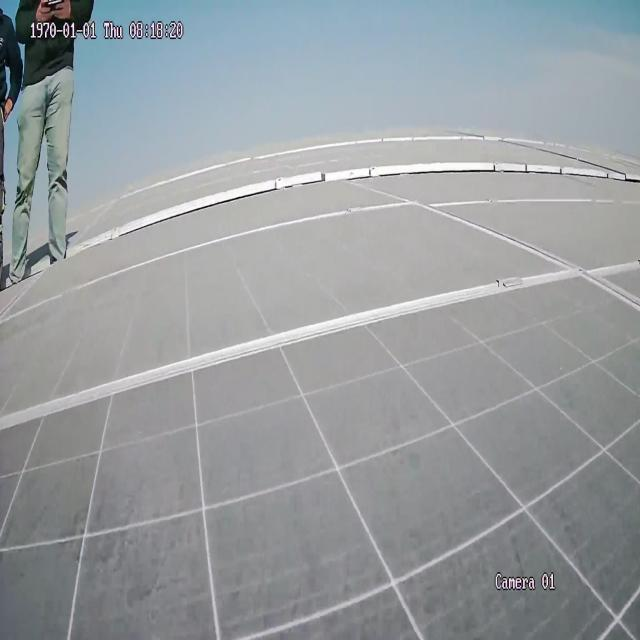interior panel: (0, 256, 640, 438)
